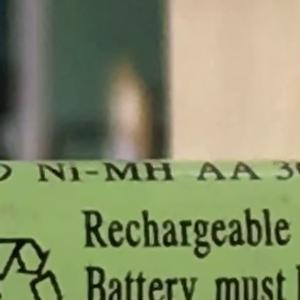keyword: (28, 152, 183, 192)
